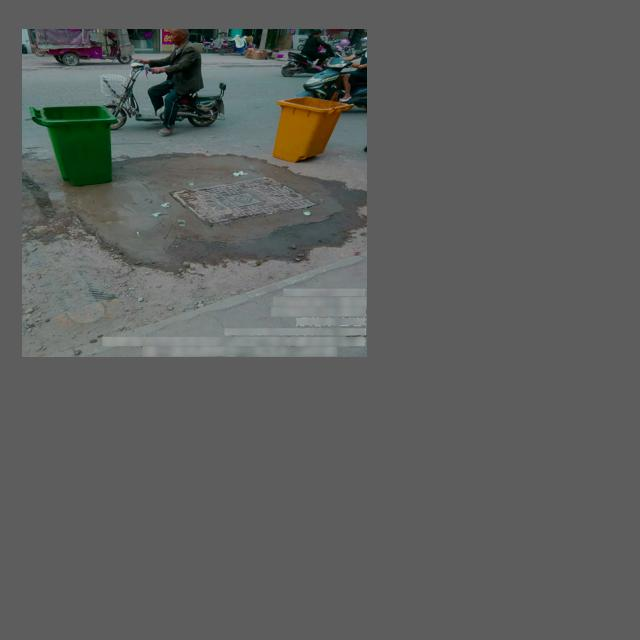good: (169, 177, 320, 225)
